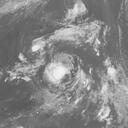cyclone: (42, 52, 73, 85)
